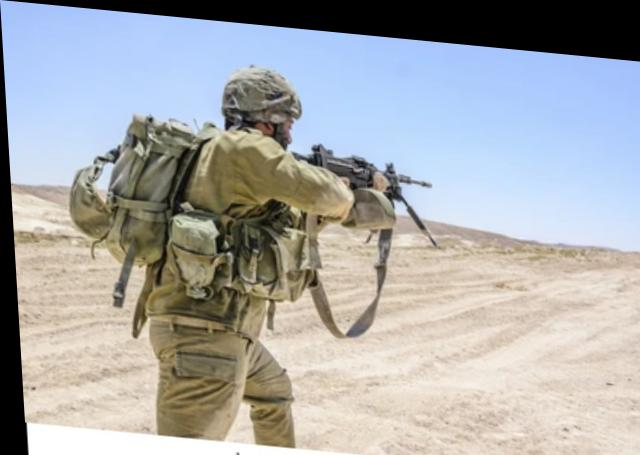other: (122, 54, 320, 441)
